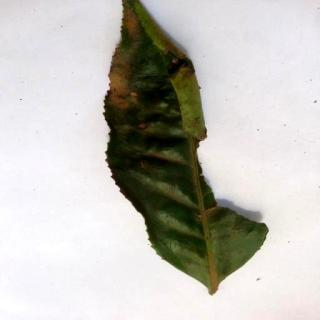Algal Leaf: (103, 1, 270, 295)
